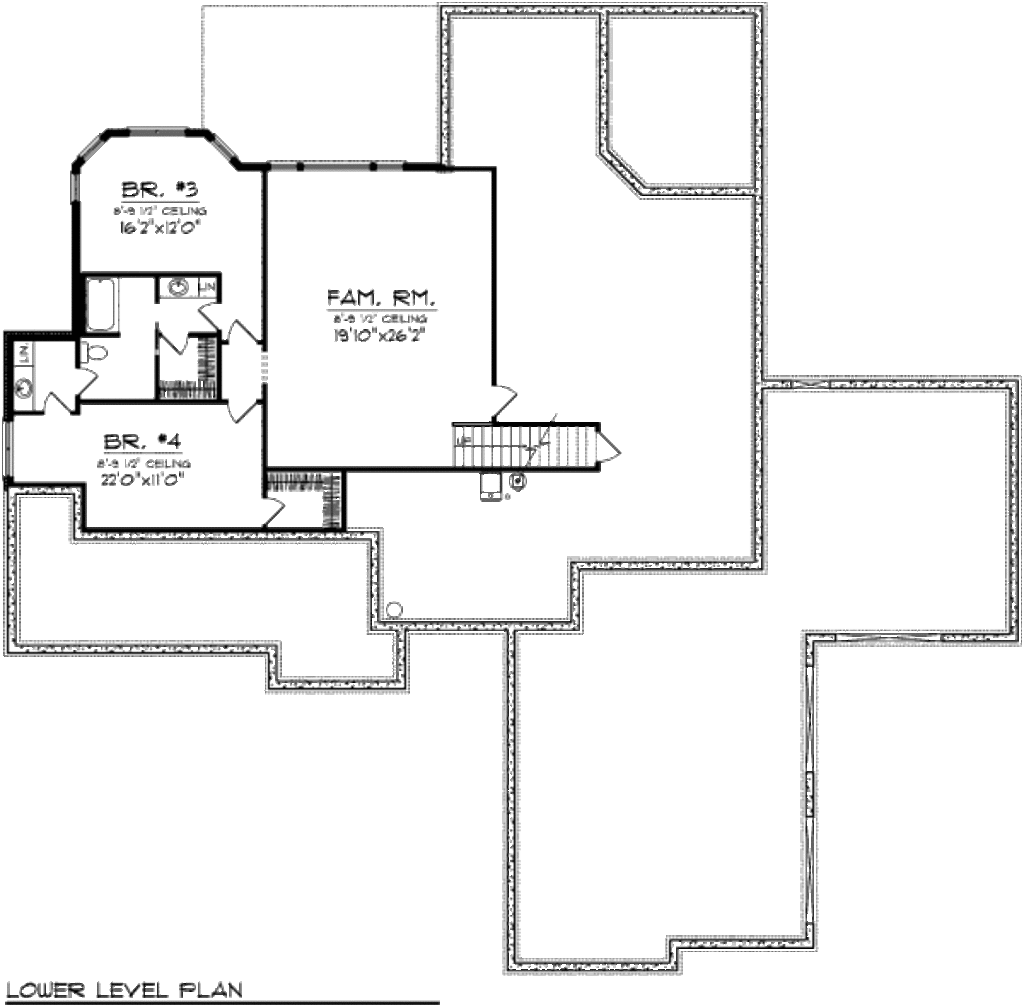door: (483, 382, 525, 422), (220, 392, 259, 425), (226, 317, 268, 345), (163, 329, 194, 359), (591, 431, 620, 463), (197, 300, 225, 331), (259, 496, 285, 525), (79, 369, 106, 396), (40, 394, 66, 411)
large_sink: (65, 339, 122, 366)
small_sink: (145, 280, 208, 305), (9, 366, 43, 409)
stairs: (454, 417, 603, 479)
tub: (89, 277, 123, 348)
window: (269, 157, 405, 172), (5, 422, 15, 483)
